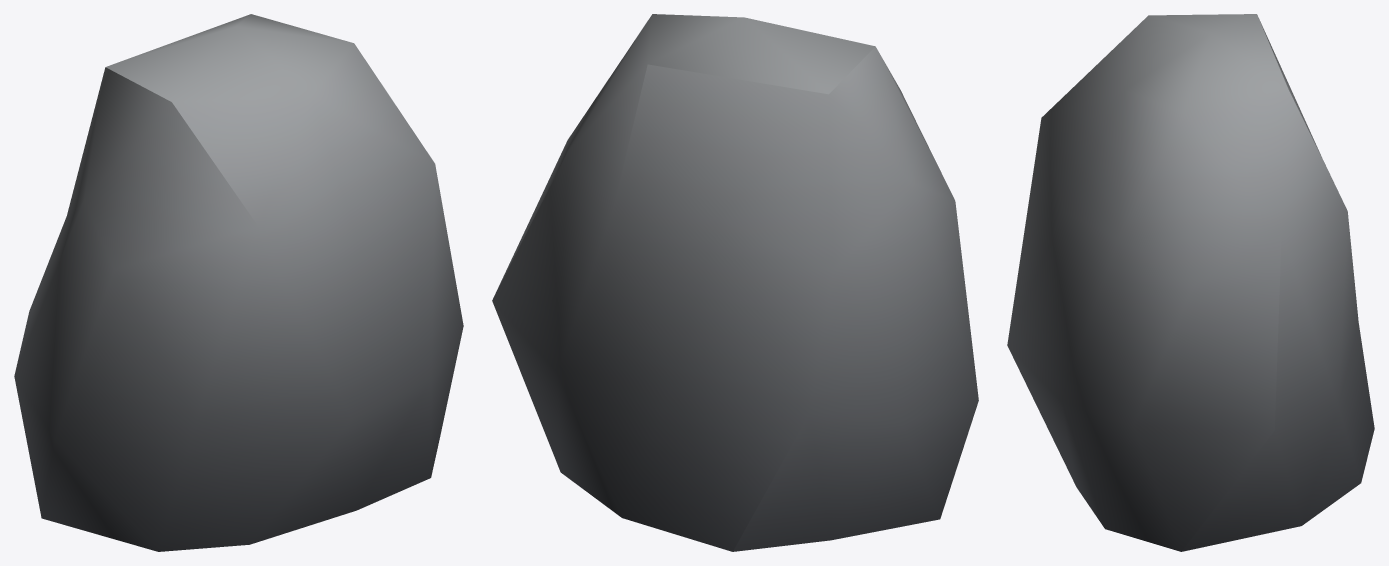
File: Menhir.fbx
3 views of the same model, side by side, from view 1: azimuth 30°, elevation 25°; view 2: azimuth 150°, elevation 25°; view 3: azimuth 270°, elevation 25° (orthographic). The views are drawn at different scales.
Visible parts, largest first — view 1: Menhir_LOD0; view 2: Menhir_LOD0; view 3: Menhir_LOD0.
Part boxes in pixels (box(x1,y1,x2,y2)): Menhir_LOD0: box(14, 14, 463, 551); Menhir_LOD0: box(492, 14, 978, 551); Menhir_LOD0: box(1007, 14, 1374, 551).
Size of what is drawn, in the model's own units: 3.12 by 3.15 by 2.44.
1 material, 1 textured.
